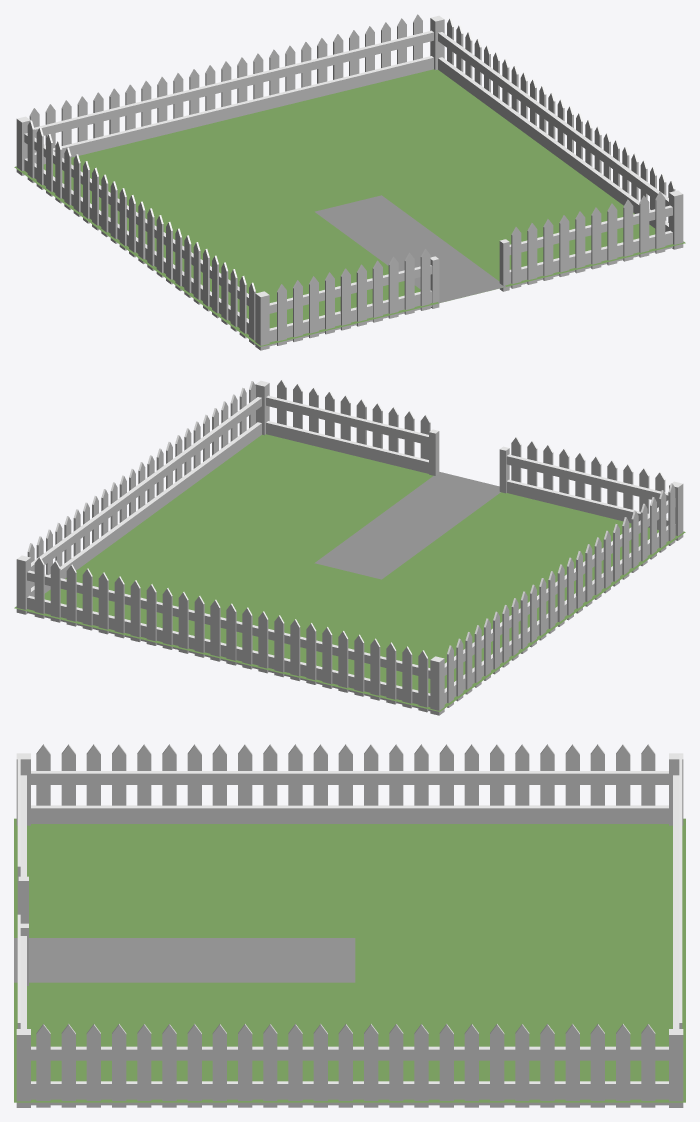
Rendered from tile_for_home_1x1_010.glb.
3 views of the same model, one above another, from view 1: azimuth 30°, elevation 25°; view 2: azimuth 150°, elevation 25°; view 3: azimuth 270°, elevation 25° (orthographic). The views are drawn at different scales.
Visible parts, largest first — view 1: tile_for_home_1x1_010; view 2: tile_for_home_1x1_010; view 3: tile_for_home_1x1_010.
Part boxes in pixels (<box>): tile_for_home_1x1_010: <box>14,14,685,350</box>; tile_for_home_1x1_010: <box>14,379,685,715</box>; tile_for_home_1x1_010: <box>14,744,685,1107</box>.
Size of the model in its own units: 8 by 1.1 by 8.
1 material, 1 textured.
